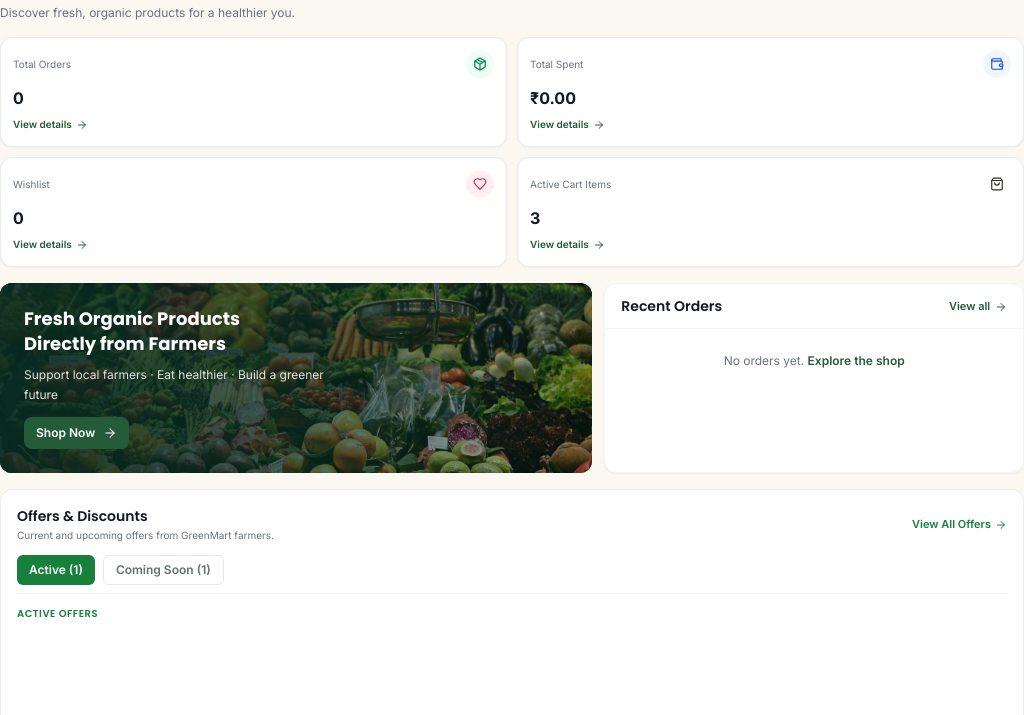
Test: Customer Dashboard page › restores subscriber-exclusive products as regular-price teasers in current and upcoming offers
Click the button "Coming Soon (1)". click: (163, 570)
box: [103,555,224,585]
(page scrolled)
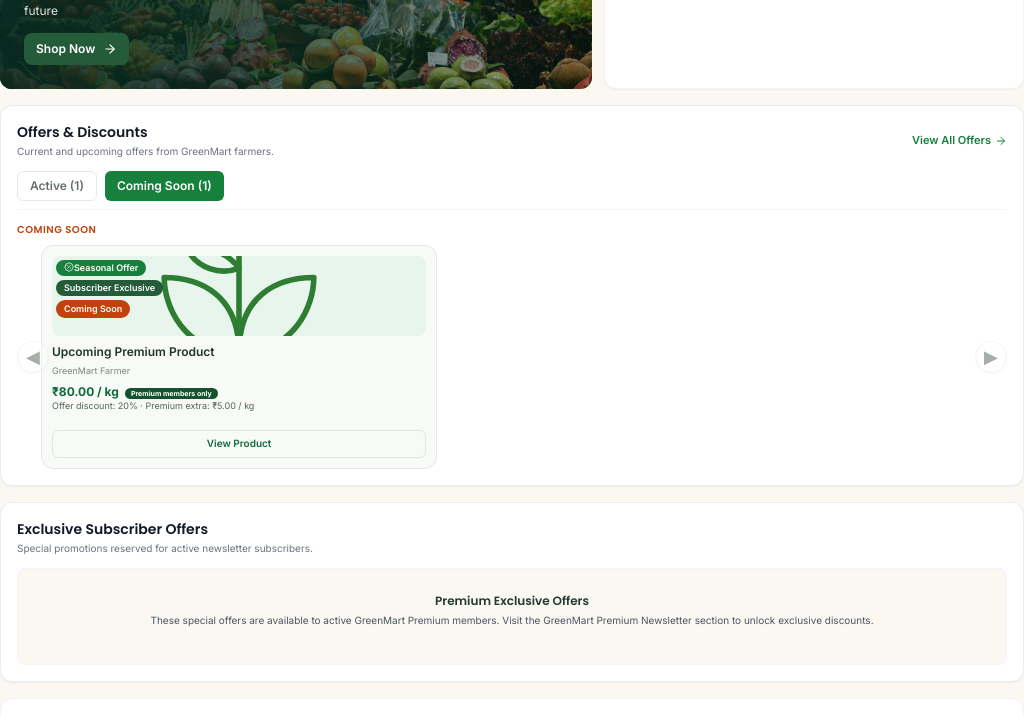
Now the link "Upcoming Premium Product" is shown, box [52,344,214,359]
